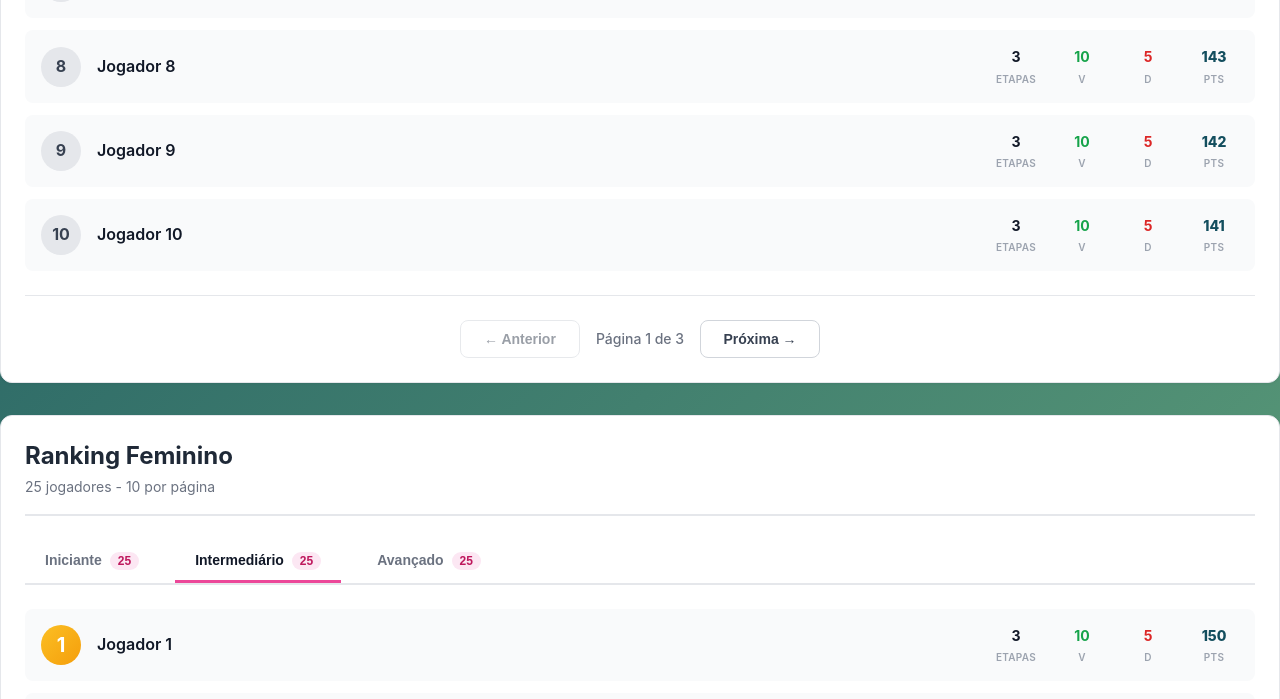
Test: RankingList › paginação › deve navegar para página anterior
(page scrolled)
Ir para página 2
Click the button "Próxima →" at (760, 340), box [700,320,820,358]
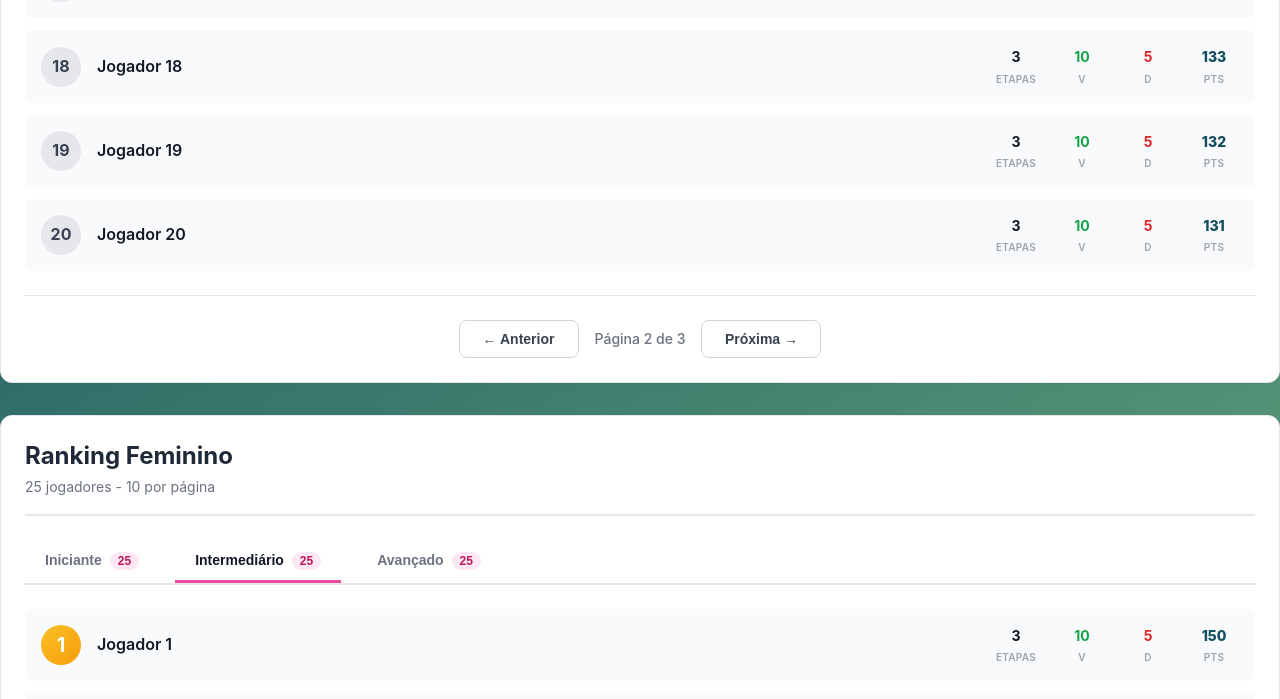
Expected: the text "Página 2 de 3" is shown, [594,328,686,351]
Voltar para página 1
Click the button "← Anterior" at (518, 340), box [458,320,578,358]
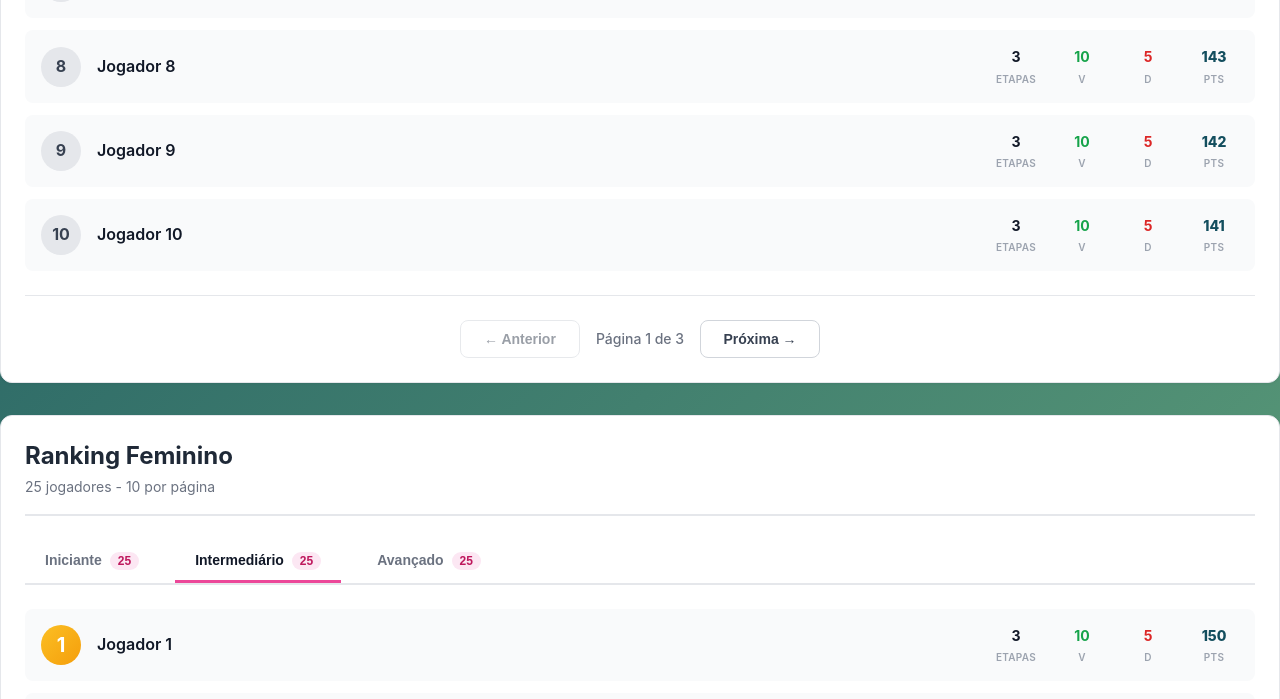
Expected: the text "Página 1 de 3" is shown, [596,328,684,351]
